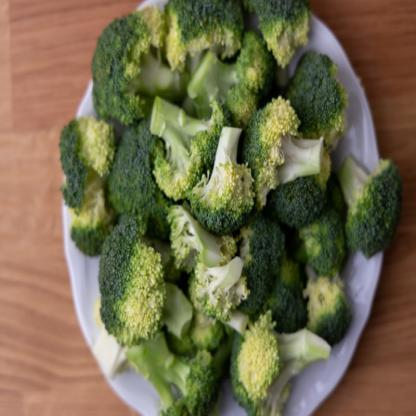broccoli: (57, 0, 401, 415)
